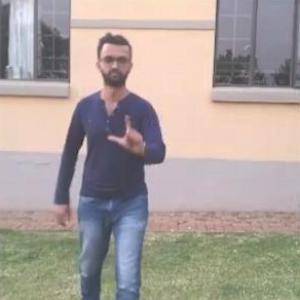land_hand: (107, 110, 151, 153)
